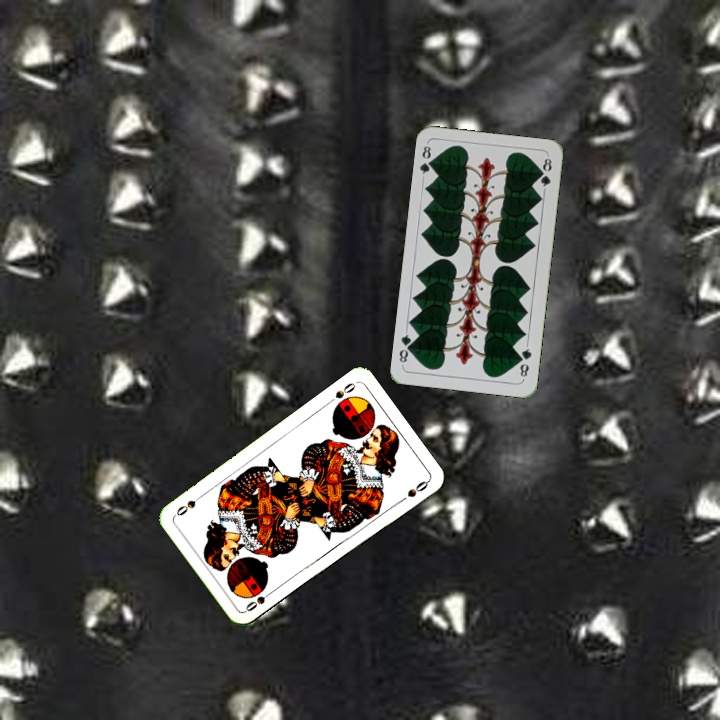G8: (416, 141, 437, 181), (516, 341, 534, 382)
SO: (324, 378, 359, 407), (241, 586, 277, 614)
